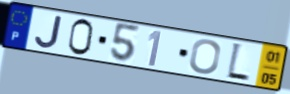0: (66, 18, 96, 56)
1: (147, 30, 163, 68)
5: (108, 21, 143, 65)
J: (33, 14, 64, 50)
L: (225, 41, 252, 84)
O: (188, 38, 223, 75)
